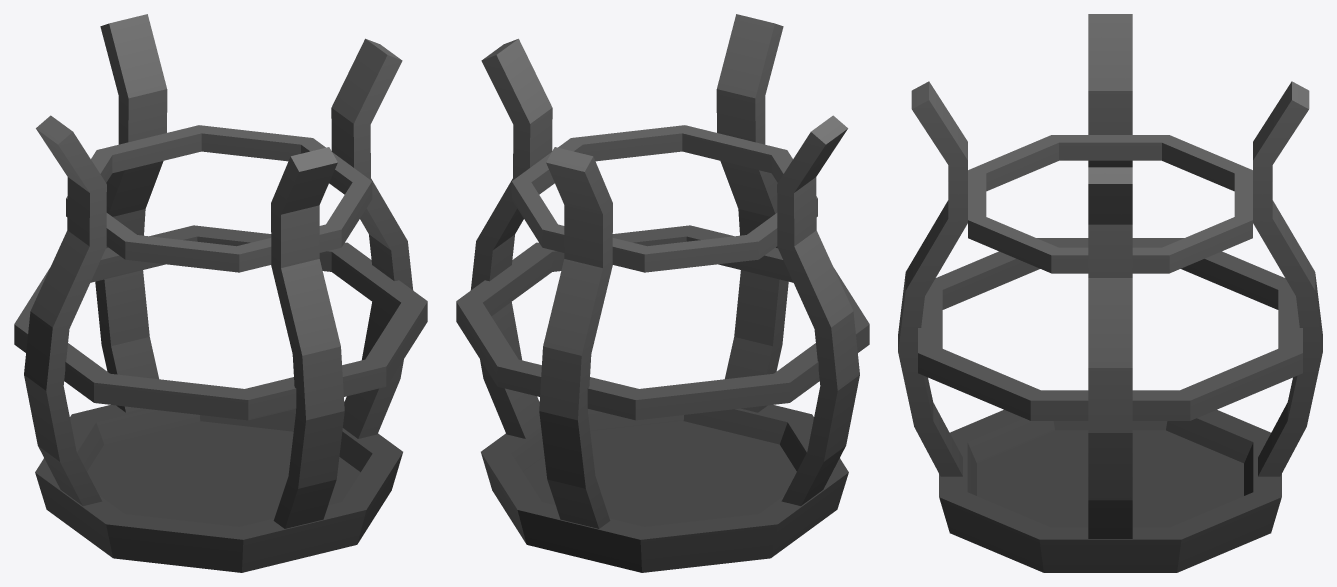
Rendered from fire-vase.glb.
3 renders of one model, left to right at view 1: azimuth 30°, elevation 25°; view 2: azimuth 150°, elevation 25°; view 3: azimuth 270°, elevation 25°, orthographic.
Visible parts, largest first — view 1: fire vase; view 2: fire vase; view 3: fire vase.
Boxes of the visible parts, x1,y1,x2,y2 form: fire vase: [14, 14, 427, 572]; fire vase: [456, 14, 869, 572]; fire vase: [898, 14, 1322, 572].
Size of the model in its own units: 1.55 by 1.67 by 1.55.
1 material, 1 textured.
